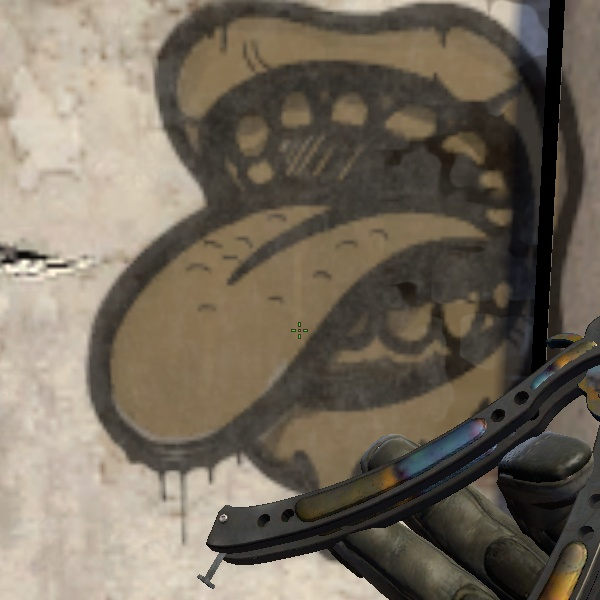ct_head: (478, 418, 600, 539)
